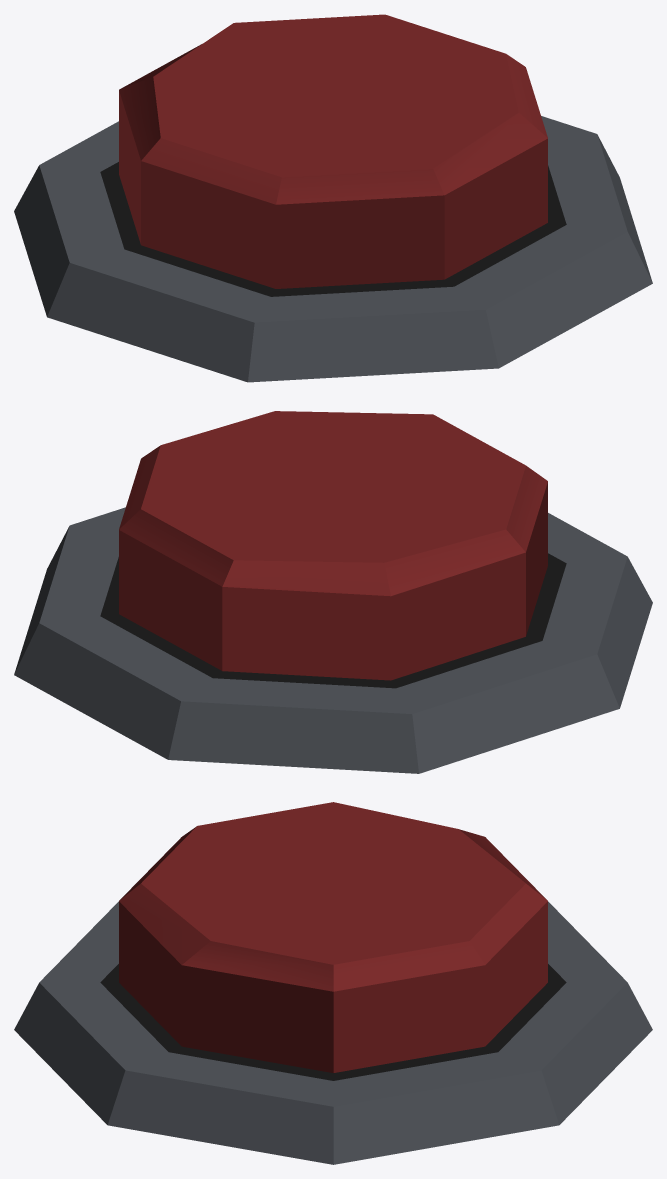
The model's file is SM_Gen_Prop_Button_02.glb.
The picture shows the model from 3 angles, top to bottom: view 1: azimuth 30°, elevation 25°; view 2: azimuth 150°, elevation 25°; view 3: azimuth 270°, elevation 25°; orthographic projection. The views are drawn at different scales.
Parts seen in each view (by area): view 1: SM_Gen_Prop_Button_02; view 2: SM_Gen_Prop_Button_02; view 3: SM_Gen_Prop_Button_02.
Boxes of the visible parts, box(x1,y1,x2,y2) form: SM_Gen_Prop_Button_02: box(14, 14, 652, 382); SM_Gen_Prop_Button_02: box(14, 411, 652, 773); SM_Gen_Prop_Button_02: box(14, 802, 652, 1164).
Size of the model in its own units: 0.1297 by 0.0328 by 0.1297.
1 material, 1 textured.
